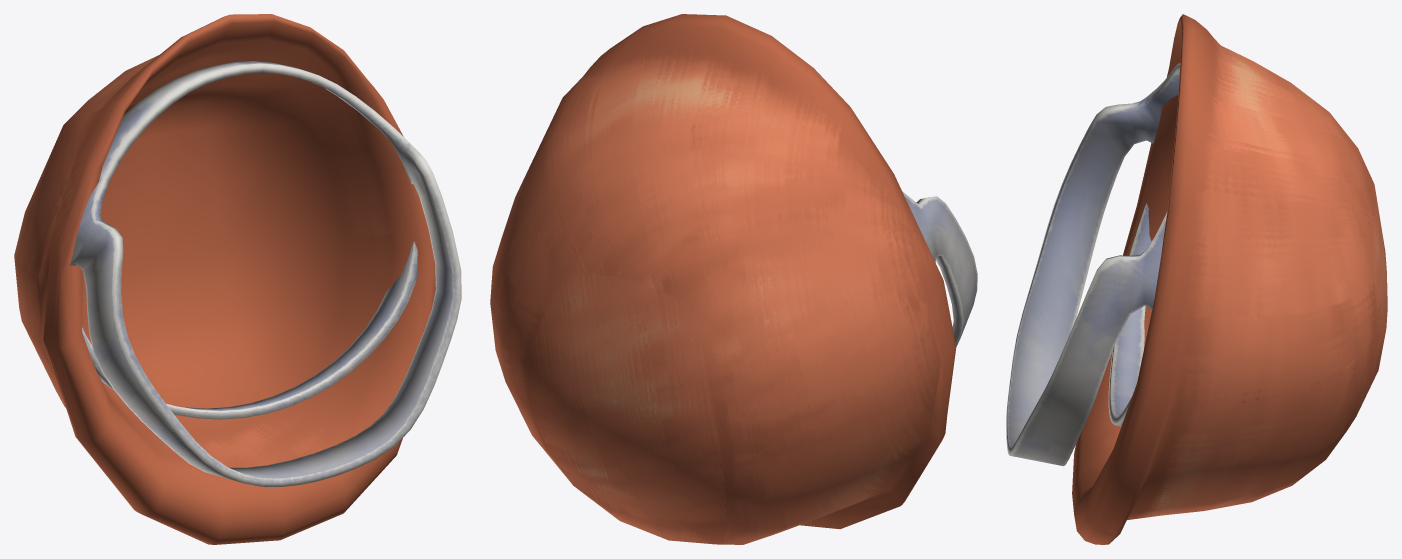
Rendered from Skin_AutoV2.fbx.
3 renders of one model, left to right at view 1: azimuth 30°, elevation 25°; view 2: azimuth 150°, elevation 25°; view 3: azimuth 270°, elevation 25°, orthographic. The views are drawn at different scales.
Parts seen in each view (by area): view 1: Sphere; view 2: Sphere; view 3: Sphere.
Boxes of the visible parts, x1,y1,x2,y2 form: Sphere: [14, 14, 461, 544]; Sphere: [490, 14, 977, 544]; Sphere: [1006, 14, 1387, 544].
Bounding box in the file's own units: 93.77 × 115 × 79.63.
